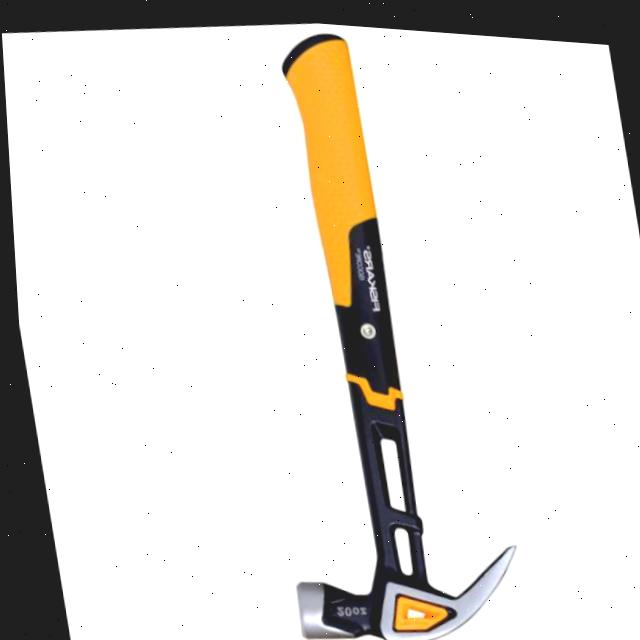hammer: (193, 11, 533, 640)
